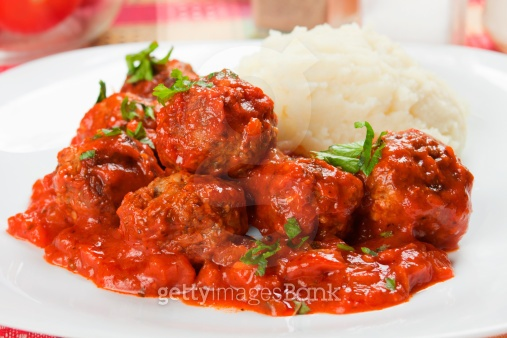meatballs: (67, 133, 467, 245), (159, 72, 283, 182)
plain rice: (267, 32, 390, 127)
